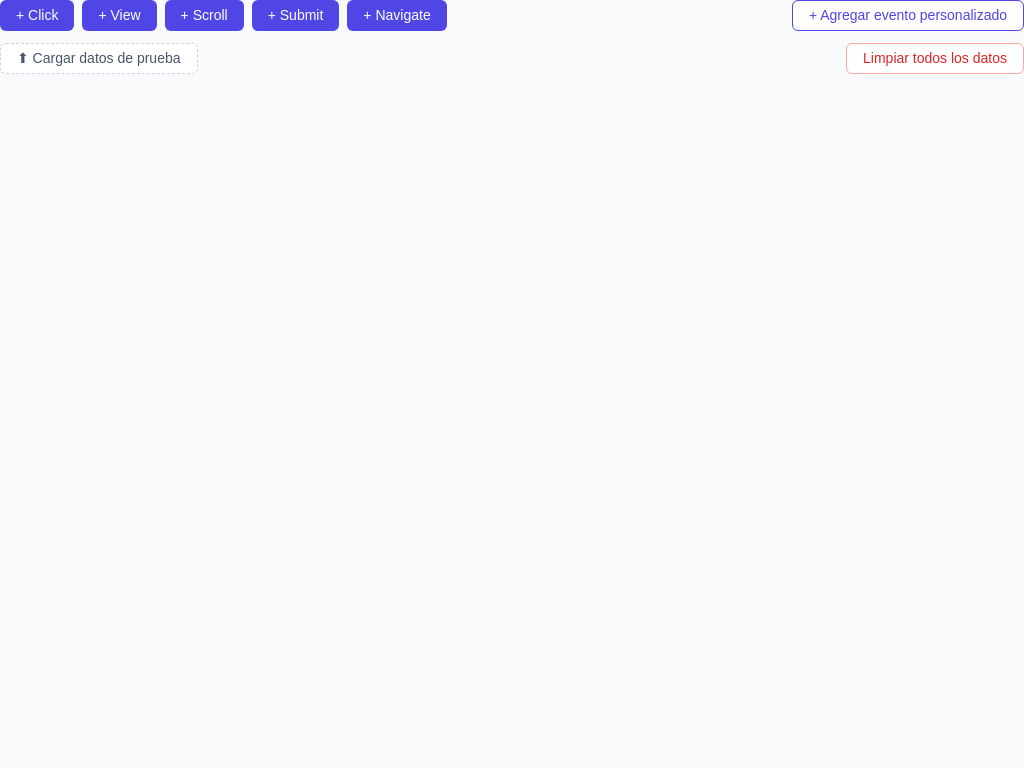
Test: Custom event form (modal) › shows the modal when the "Agregar evento personalizado" button is clicked
Click the button "+ Agregar evento personalizado": (908, 15) [792,0,1023,31]
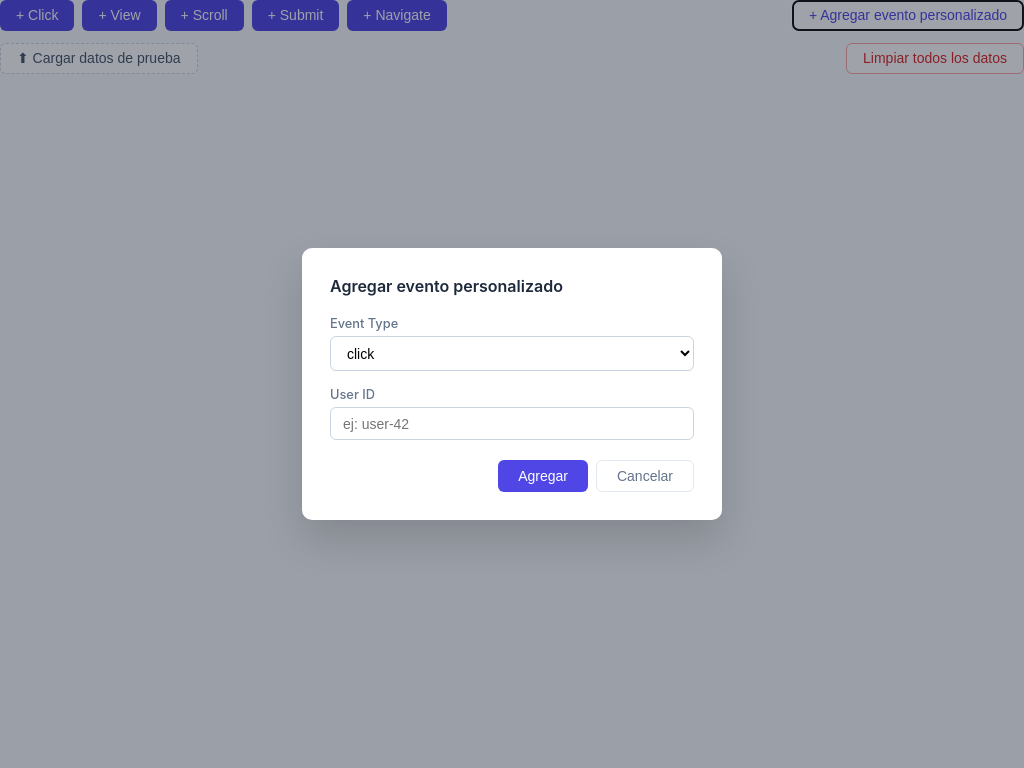
Result: the heading "Agregar evento personalizado" is shown at [330,276,563,296]
